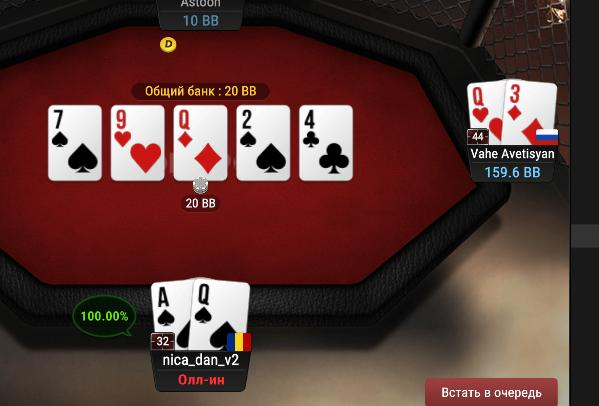2s: (238, 107, 288, 178)
3d: (504, 80, 557, 146)
4c: (300, 106, 353, 179)
7s: (49, 106, 101, 179)
9h: (112, 106, 164, 177)
As: (150, 281, 192, 350)
Qd: (174, 107, 226, 177)
Qh: (465, 81, 503, 144)
Qs: (191, 278, 249, 351)
